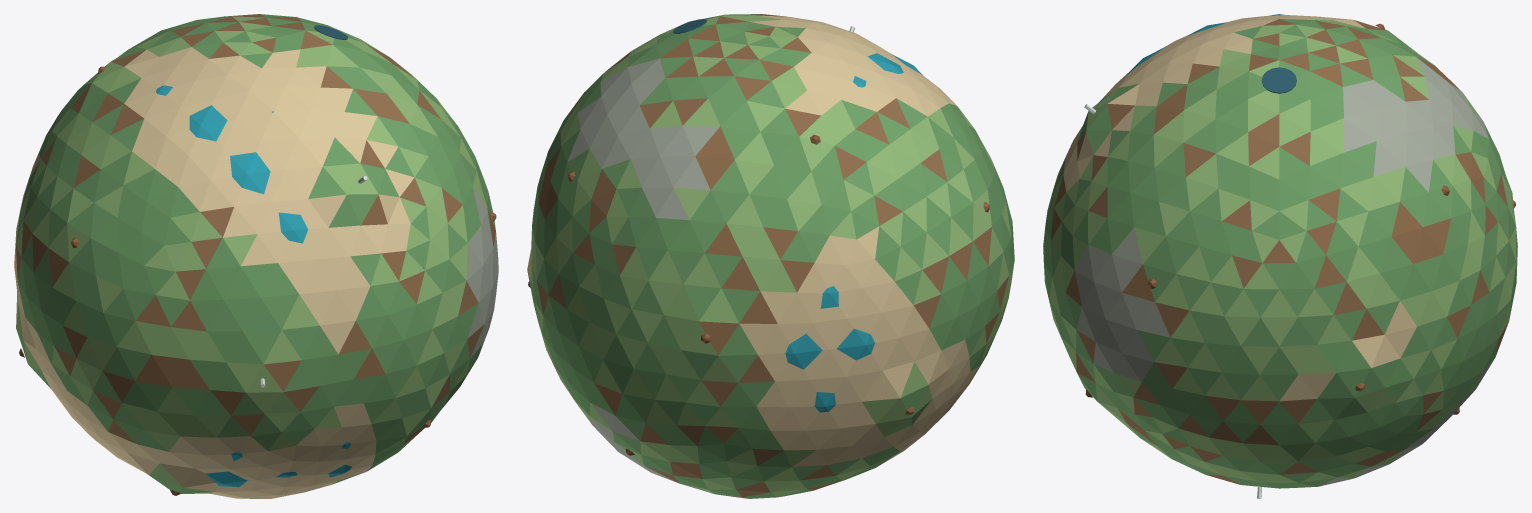
File: ametz_orbit.glb
3 renders of one model, left to right at view 1: azimuth 30°, elevation 25°; view 2: azimuth 150°, elevation 25°; view 3: azimuth 270°, elevation 25°, orthographic. The views are drawn at different scales.
Visible parts, largest first — view 1: orbit_terrain_0, water_visual.001; view 2: orbit_terrain_0, water_visual.001; view 3: orbit_terrain_0, Distant_landing_pad.
Part boxes in pixels (box(x1,y1,x2,y2)): orbit_terrain_0: box(14, 14, 498, 498); water_visual.001: box(156, 85, 351, 487); orbit_terrain_0: box(527, 14, 1014, 498); water_visual.001: box(785, 31, 922, 412); orbit_terrain_0: box(1043, 15, 1517, 488); Distant_landing_pad: box(1261, 67, 1296, 93).
Bounding box in the file's own units: 242 × 242 × 242.
